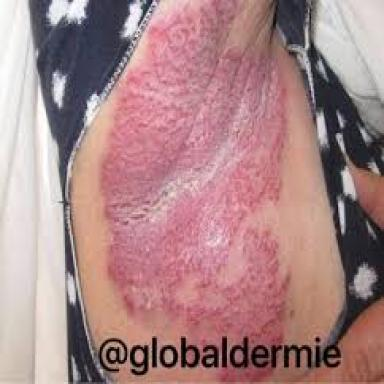Hailey-Hailey-Disease: (101, 3, 283, 336)
